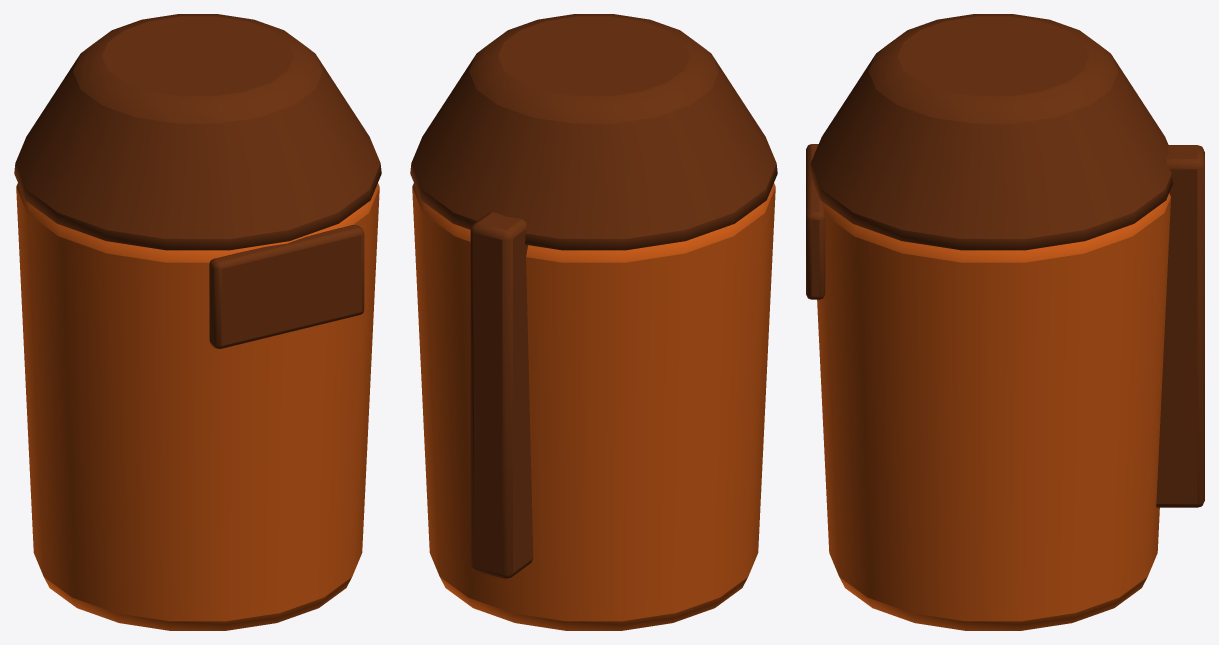
File: muelleimer.glb
3 renders of one model, left to right at view 1: azimuth 30°, elevation 25°; view 2: azimuth 150°, elevation 25°; view 3: azimuth 270°, elevation 25°, orthographic.
Visible parts, largest first — view 1: Cone, Cone.001, Cube; view 2: Cone, Cone.001, Cube.001; view 3: Cone, Cone.001, Cube.001, Cube.
Boxes of the visible parts, x1,y1,x2,y2 form: Cone: (16,183,379,630); Cone.001: (14,14,381,250); Cube: (209,225,364,348); Cone: (412,183,775,630); Cone.001: (410,14,777,250); Cube.001: (470,212,533,578); Cone: (817,193,1170,630); Cone.001: (809,14,1172,250); Cube.001: (1156,145,1204,507); Cube: (806,144,825,299).
Size of the model in its own units: 0.3765 by 0.59 by 0.415.
